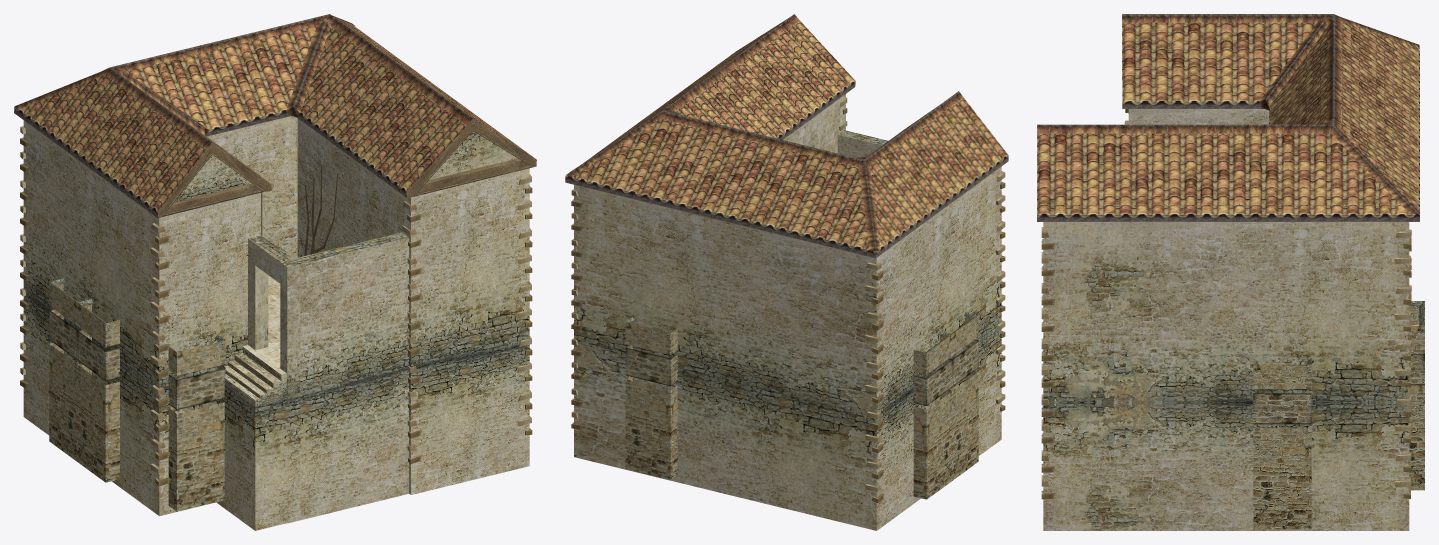
The model's file is hele_house_a.dae.
The picture shows the model from 3 angles, left to right: view 1: azimuth 30°, elevation 25°; view 2: azimuth 150°, elevation 25°; view 3: azimuth 270°, elevation 25°; orthographic projection. The views are drawn at different scales.
Parts seen in each view (by area): view 1: hele_house_a; view 2: hele_house_a; view 3: hele_house_a.
Boxes of the visible parts, bbox=[...] form: hele_house_a: bbox=[14, 14, 536, 530]; hele_house_a: bbox=[565, 14, 1008, 530]; hele_house_a: bbox=[1037, 14, 1424, 530].
Bounding box in the file's own units: 15.02 × 13.68 × 14.66.
